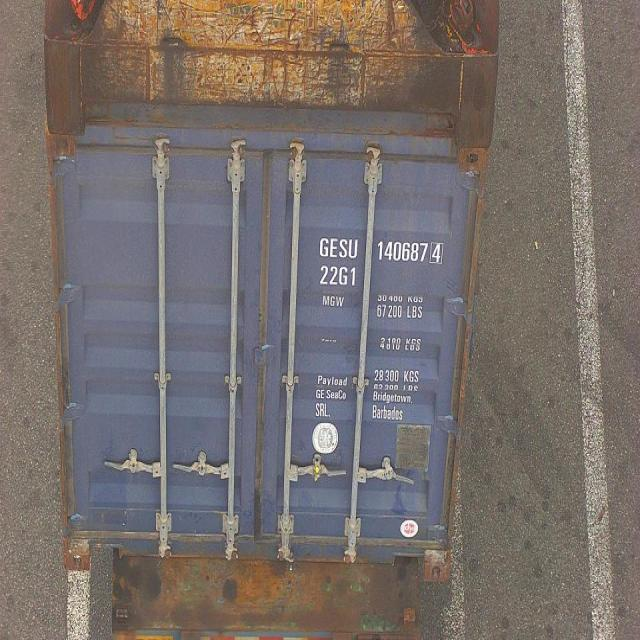ISO: (320, 264, 358, 288)
container_number: (316, 232, 448, 268)
